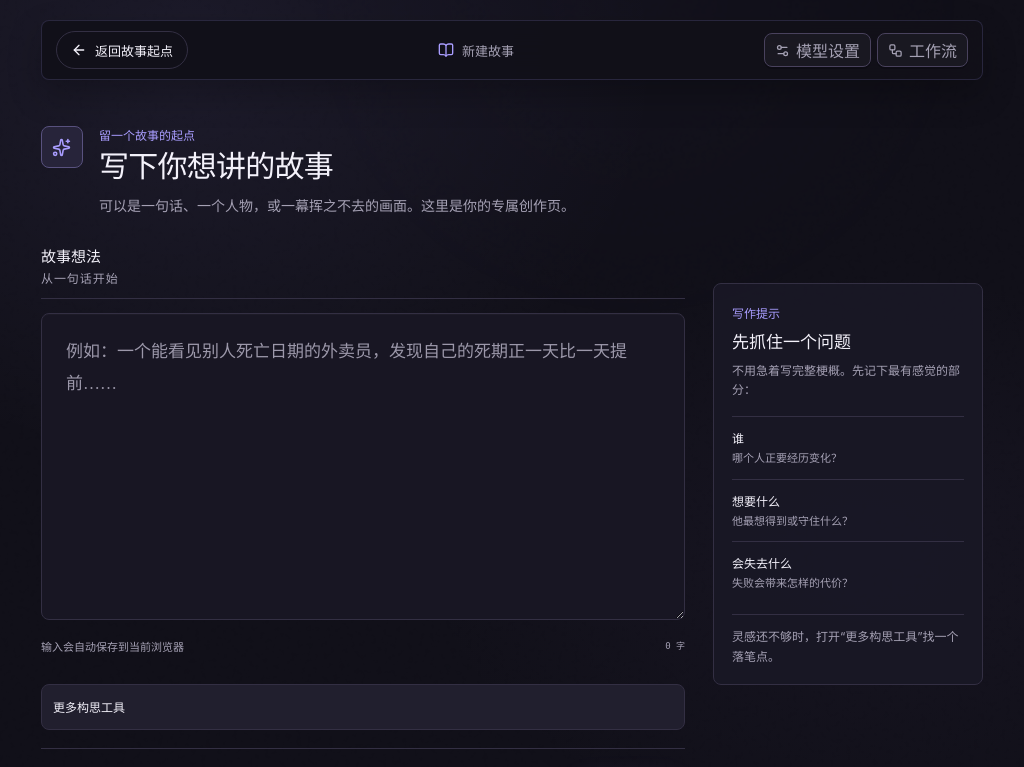
it: CreativeHome author entry › gives clear feedback when a preset is adopted
Click the heading "更多构思工具" at coordinates (89, 708), box [53, 700, 125, 715]
(page scrolled)
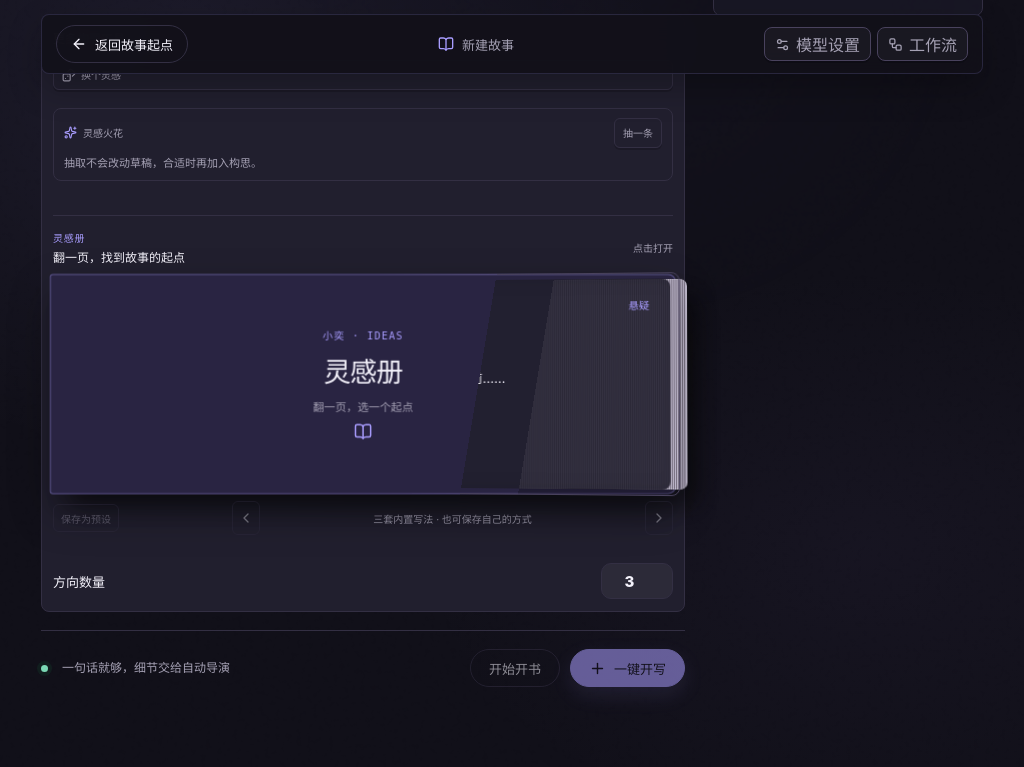
Click the button named "灵感册翻一页" at coordinates (363, 384), box [50, 274, 676, 494]
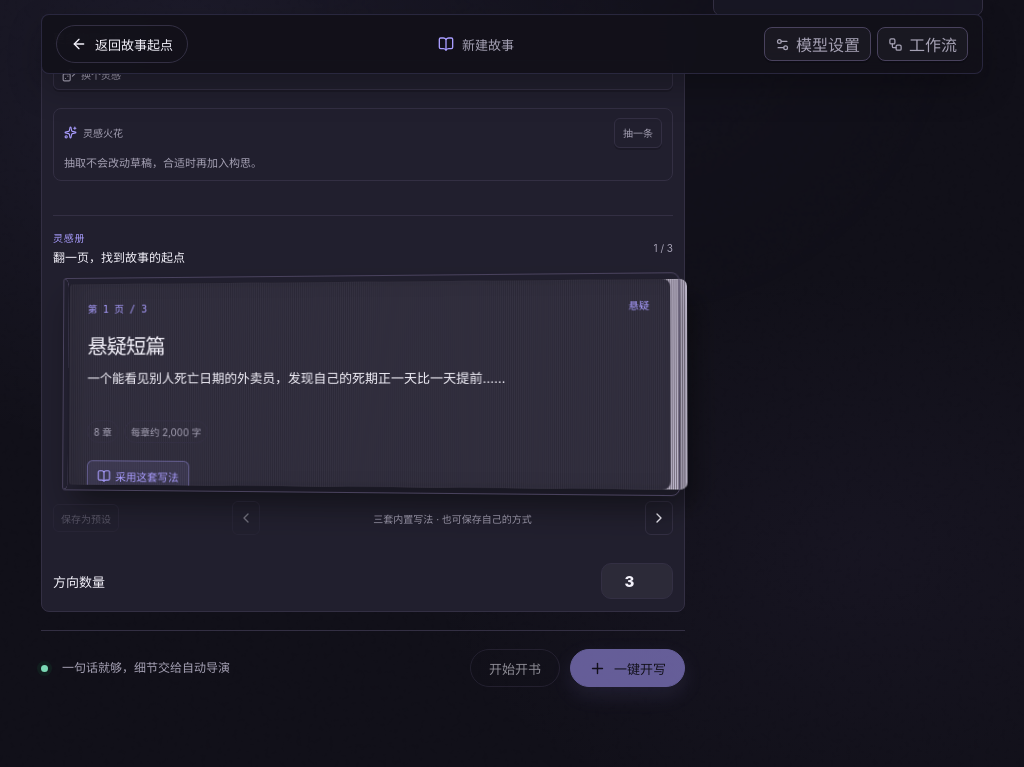
Click the button "采用这套写法" at coordinates (138, 477), box [87, 460, 189, 493]
(page scrolled)
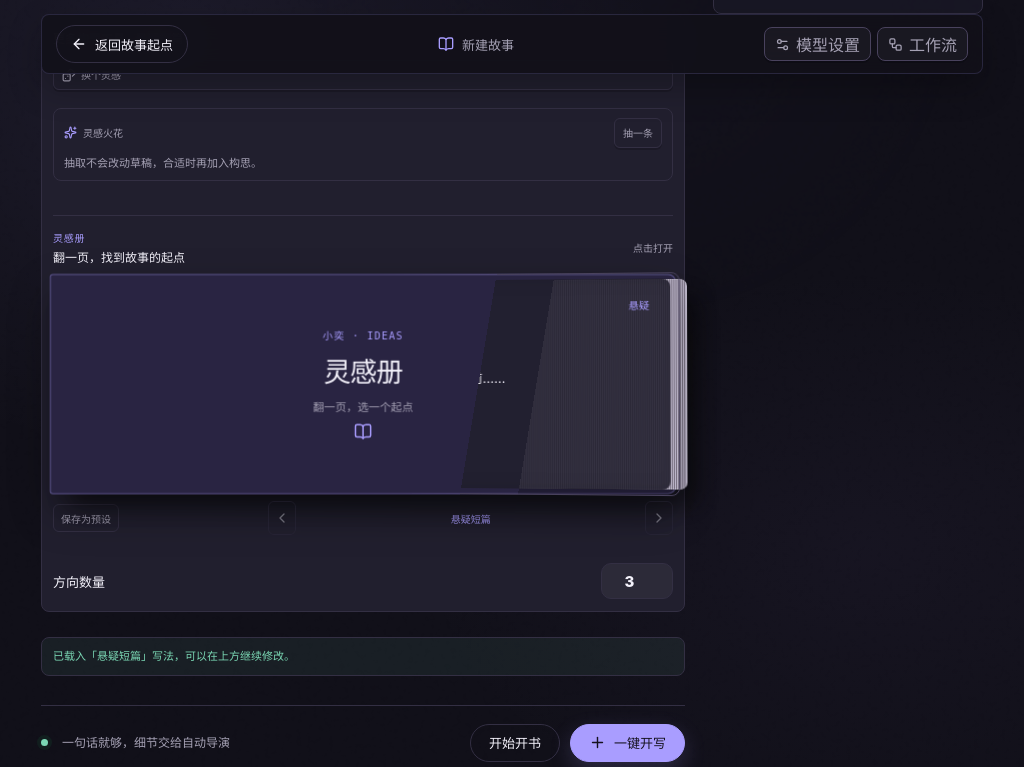
Expected: the message "已载入「悬疑短篇」写法，可以在上方继续修改。" is shown, [41, 637, 685, 676]
